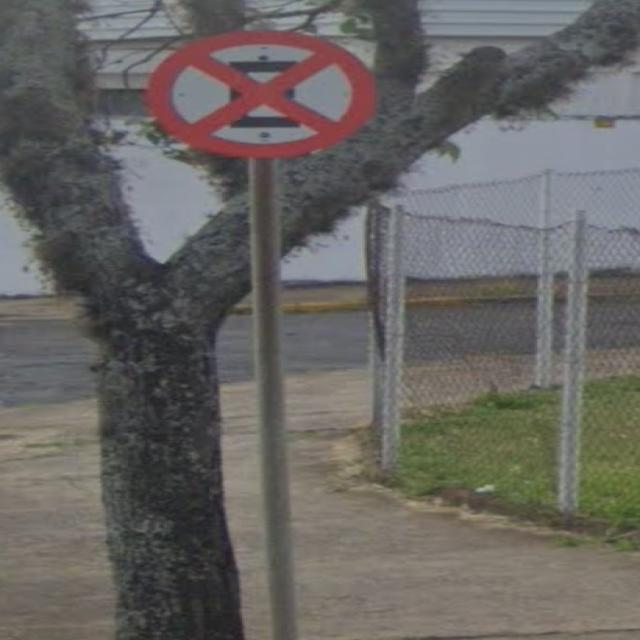no parking: (108, 19, 420, 170)
